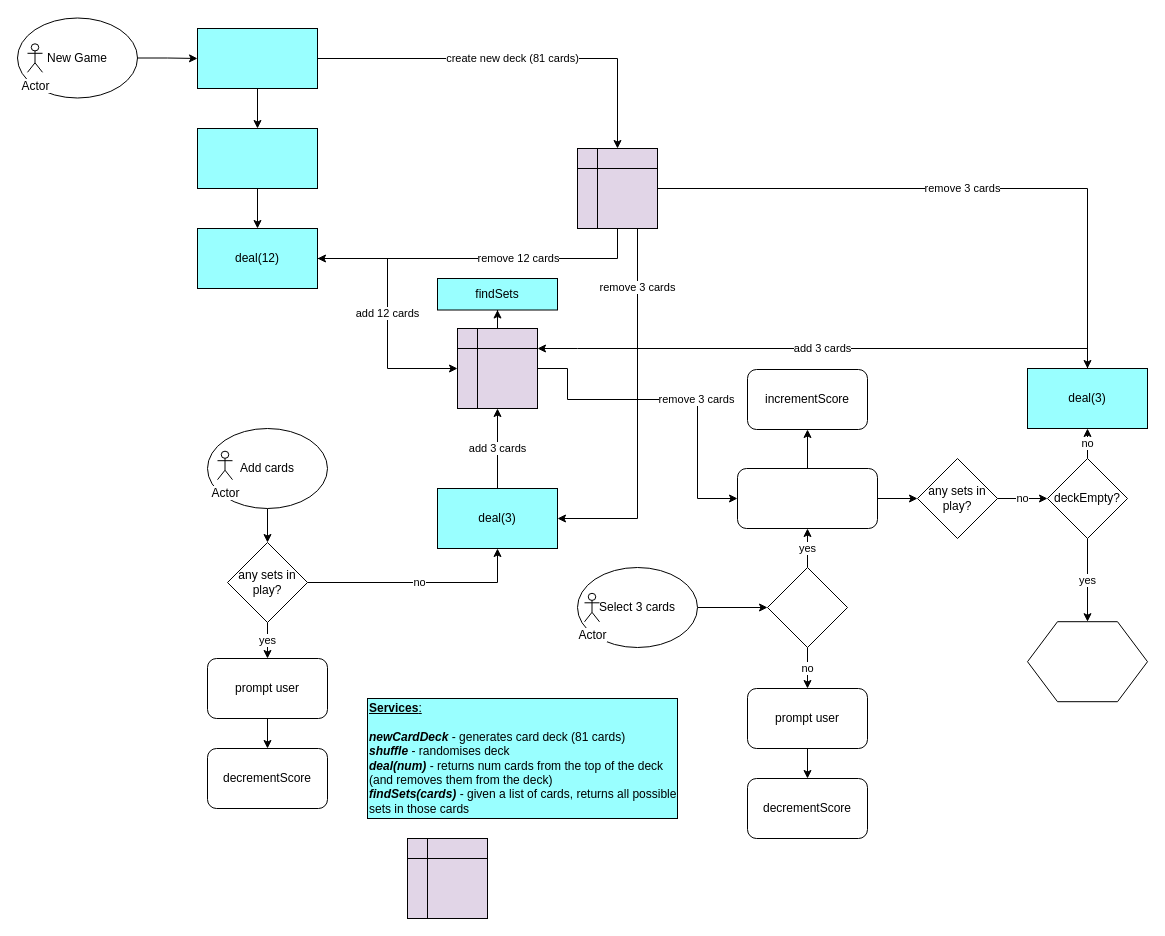
The diagram is 1165 pixels wide and 936 high, and some of its shapes have lost their labels. Each missing label, with the centre of its shape:
"Cards in play" goes at [497,368].
"Deck" goes at [617,188].
"End game Display score" goes at [1087,661].
"isSet?" goes at [807,607].
"newCardDeck" goes at [257,58].
"removeCardsFromPlay" goes at [807,498].
"shuffle" goes at [257,158].
"State: Deck Cards in play Selected cards Sets in play" goes at [447,878].
